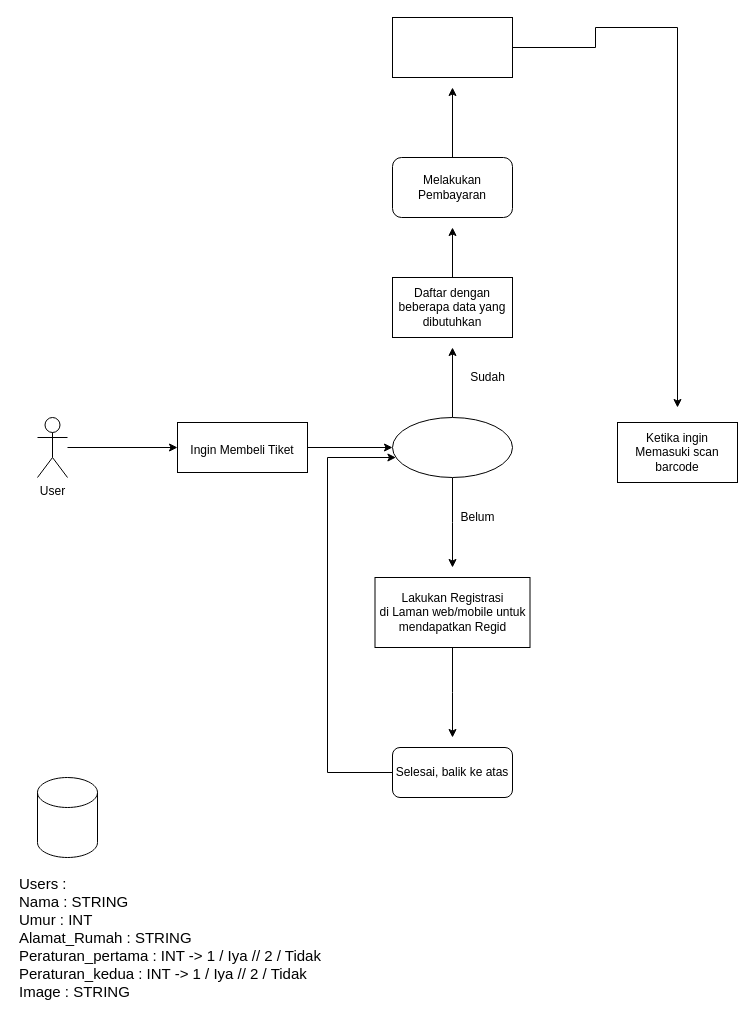
This 755x1025 diagram has some shape labels left out. The shapes that lost their labels are listed below. From the top down, each one's centre as x and y in pixels, then its label:
point 452,47: Dapat barcode
point 452,447: Sudah mendapatkan RegID ?
point 67,817: RDBMS
